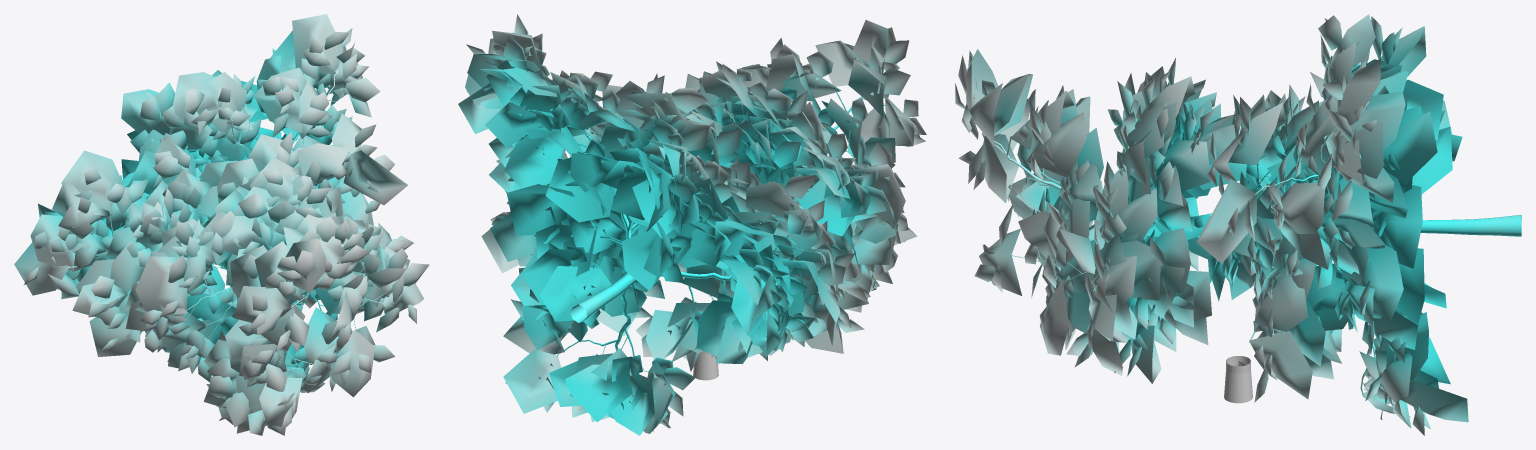
The model's file is KIT_MapleMedium1.fbx.
3 views of the same model, side by side, from view 1: azimuth 30°, elevation 25°; view 2: azimuth 150°, elevation 25°; view 3: azimuth 270°, elevation 25° (orthographic). The views are drawn at different scales.
Parts seen in each view (by area): view 1: Upper_LOD0; view 2: Upper_LOD0, Stump_LOD0; view 3: Upper_LOD0, Stump_LOD0.
Boxes of the visible parts, x1=… form: Upper_LOD0: x1=14, y1=14, x2=429, y2=435; Upper_LOD0: x1=458, y1=14, x2=926, y2=435; Stump_LOD0: x1=693, y1=353, x2=718, y2=380; Upper_LOD0: x1=955, y1=14, x2=1521, y2=435; Stump_LOD0: x1=1224, y1=369, x2=1252, y2=403.
Size of what is drawn, in the model's own units: 1316 by 1110 by 1425.
